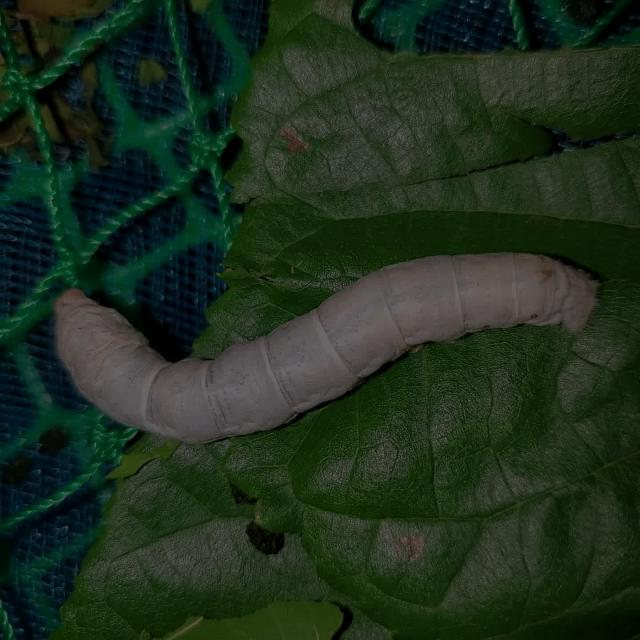Healthy: (24, 218, 630, 465)
